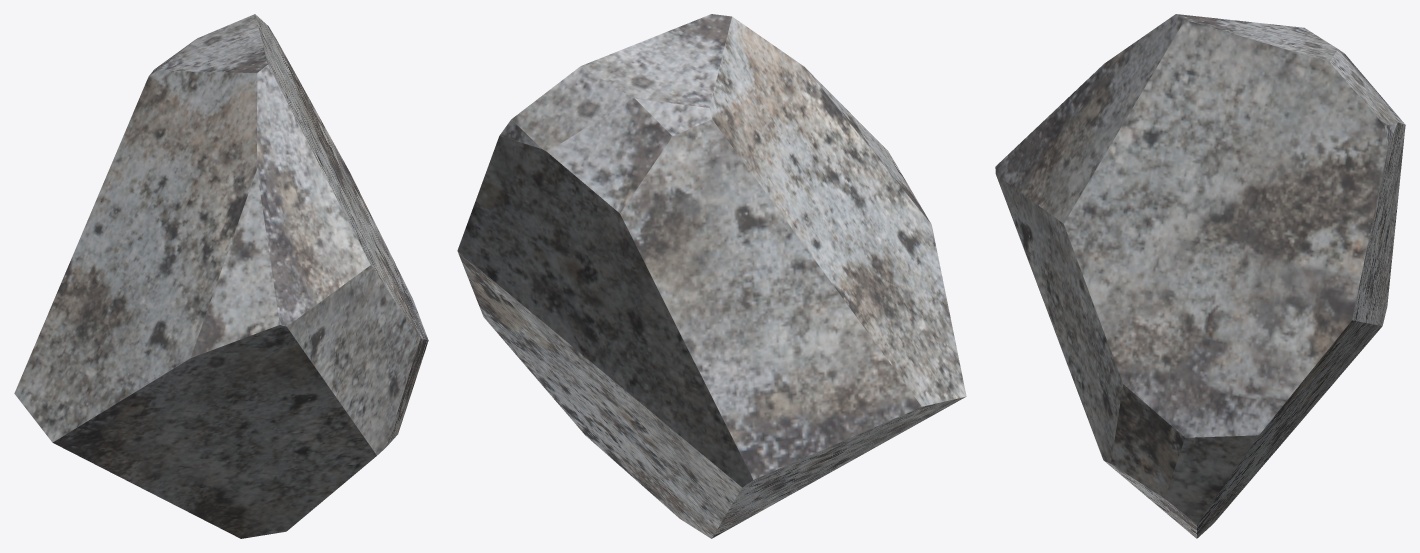
Rendered from Asteroid_Large_001_02_008_03_014.fbx.
The picture shows the model from 3 angles, left to right: view 1: azimuth 30°, elevation 25°; view 2: azimuth 150°, elevation 25°; view 3: azimuth 270°, elevation 25°; orthographic projection. The views are drawn at different scales.
Parts seen in each view (by area): view 1: Asteroid_Large_001_02_008_03_014; view 2: Asteroid_Large_001_02_008_03_014; view 3: Asteroid_Large_001_02_008_03_014.
Part boxes in pixels (x1,y1,x2,y2): Asteroid_Large_001_02_008_03_014: [14, 14, 428, 538]; Asteroid_Large_001_02_008_03_014: [457, 14, 966, 538]; Asteroid_Large_001_02_008_03_014: [995, 14, 1405, 538].
Bounding box in the file's own units: 11.1 × 12.52 × 9.11.
